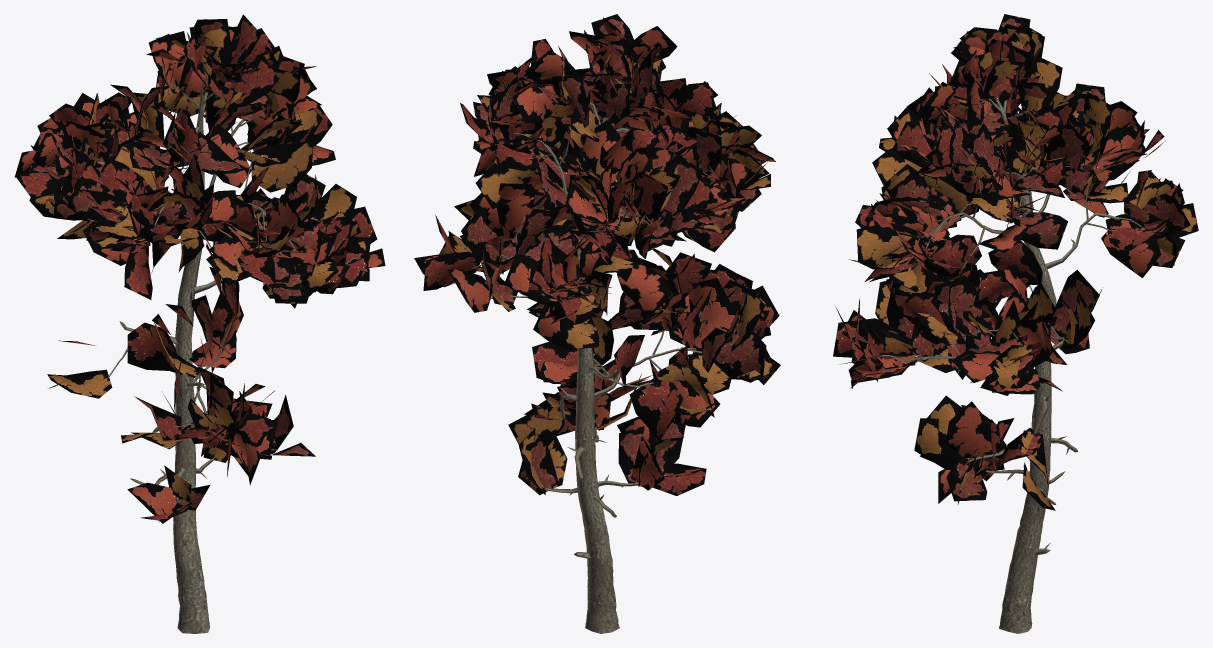
File: Oak_White_Desktop_Forest_001_Red_4af5b1.glb
3 views of the same model, side by side, from view 1: azimuth 30°, elevation 25°; view 2: azimuth 150°, elevation 25°; view 3: azimuth 270°, elevation 25° (orthographic). The views are drawn at different scales.
Size of the model in its own units: 6.43 by 11.09 by 6.59.
Materials: 2 (2 with a texture image).
